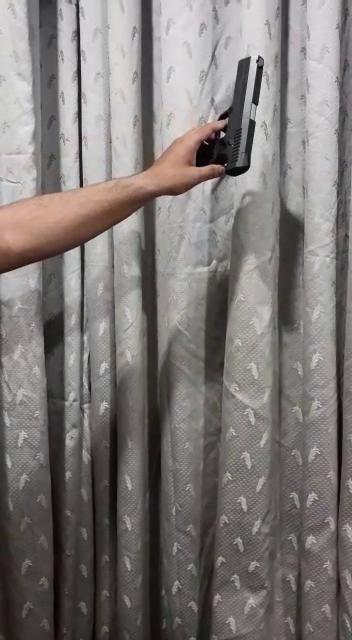weapon: (188, 50, 270, 180)
